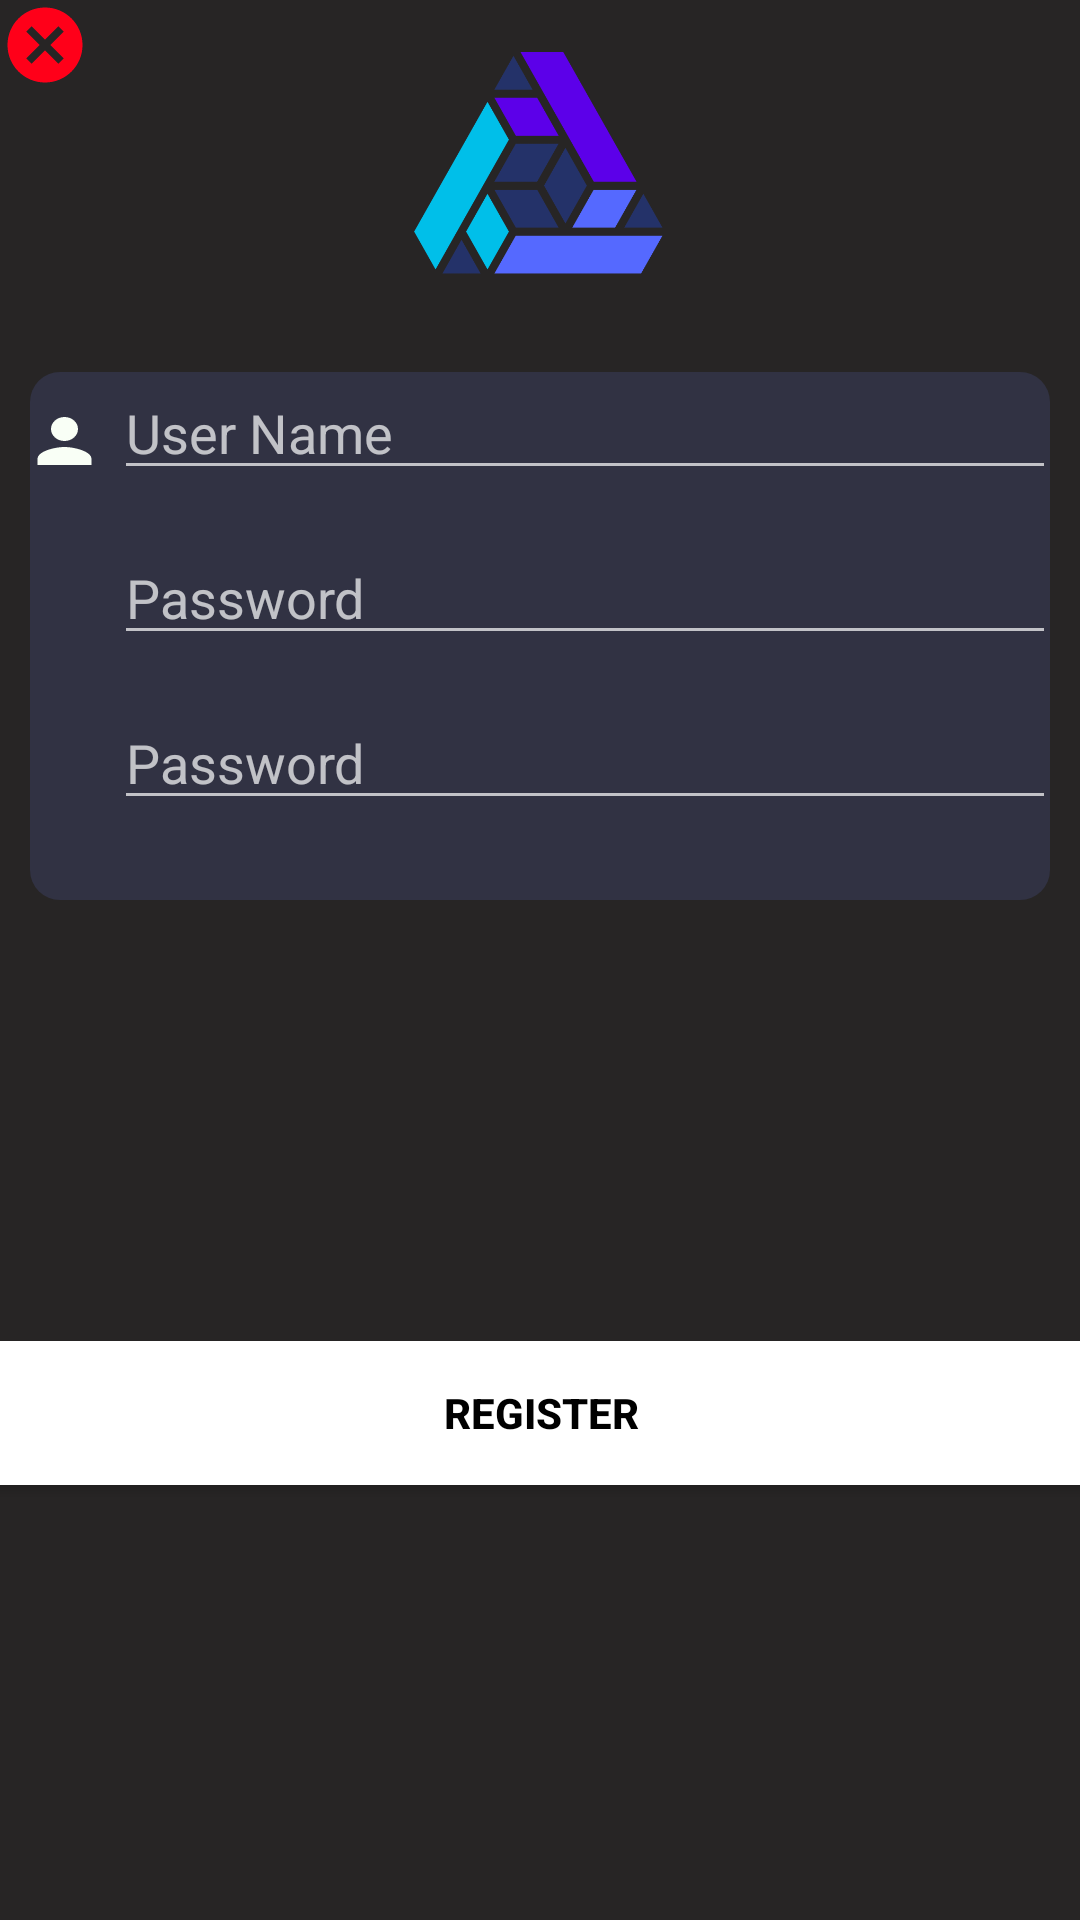

Where to tap for icons on this 1080×1920 app screen, as [x,y]:
cancel: [45,45]
person: [64,441]
